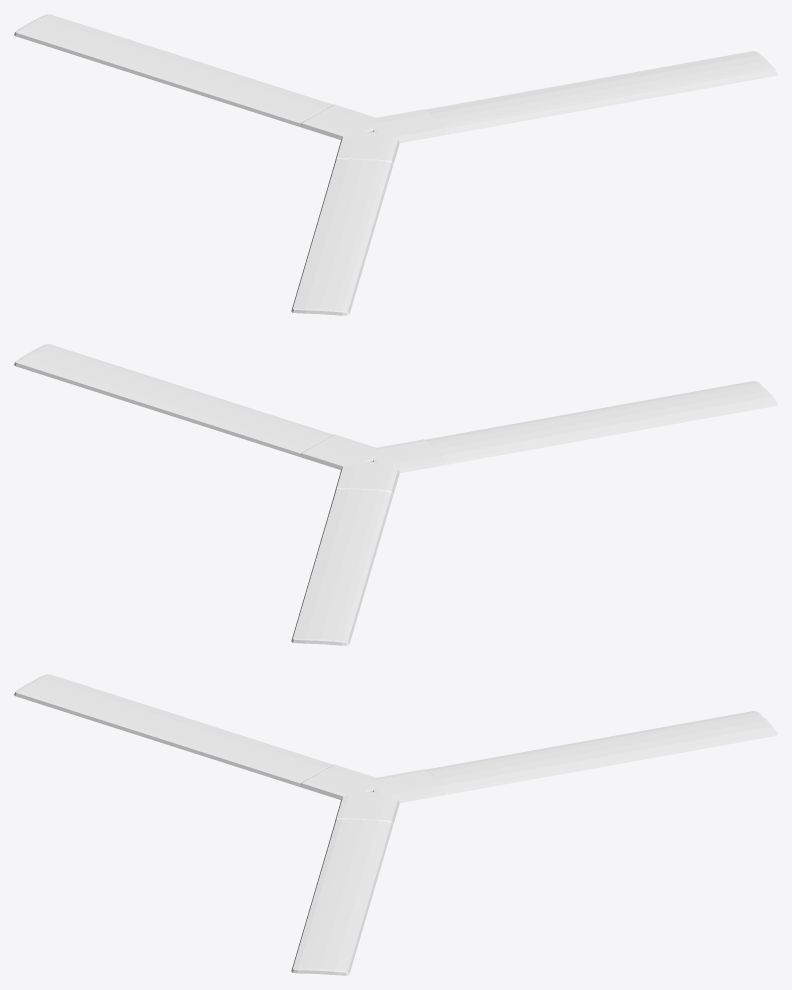
File: VentiladorHelices.obj
3 renders of one model, top to bottom at view 1: azimuth 30°, elevation 25°; view 2: azimuth 150°, elevation 25°; view 3: azimuth 270°, elevation 25°, orthographic.
Parts seen in each view (by area): view 1: polySurface5 polySurface1; view 2: polySurface5 polySurface1; view 3: polySurface5 polySurface1.
Boxes of the visible parts, box(x1,y1,x2,y2) form: polySurface5 polySurface1: box(14, 14, 777, 315); polySurface5 polySurface1: box(14, 344, 777, 645); polySurface5 polySurface1: box(14, 674, 777, 975).
Bounding box in the file's own units: 2.91 × 0.0229 × 3.14.
1 material, 1 textured.
